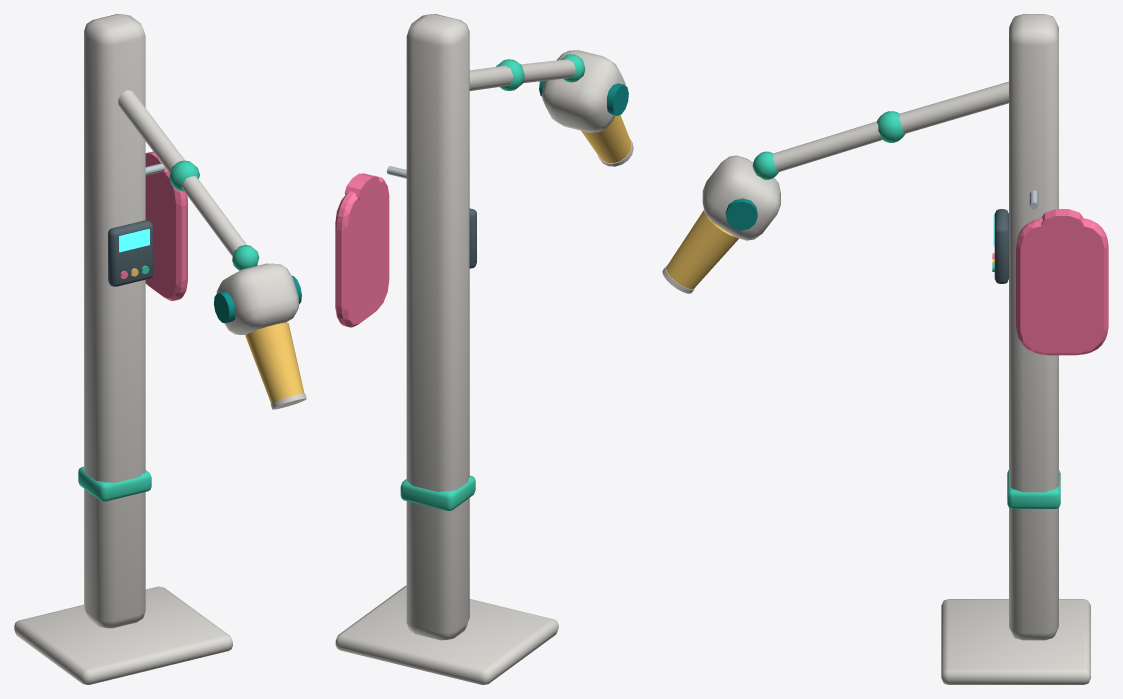
The model's file is xray_unit.glb.
The picture shows the model from 3 angles, left to right: view 1: azimuth 30°, elevation 25°; view 2: azimuth 150°, elevation 25°; view 3: azimuth 270°, elevation 25°; orthographic projection. The views are drawn at different scales.
Parts seen in each view (by area): view 1: XrayUnit; view 2: XrayUnit; view 3: XrayUnit.
Part boxes in pixels (box(x1,y1,x2,y2)): XrayUnit: box(14, 14, 306, 684); XrayUnit: box(335, 14, 633, 684); XrayUnit: box(662, 14, 1108, 684).
Bounding box in the file's own units: 0.5 × 1.95 × 1.25.
